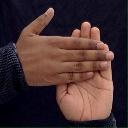hand: (14, 7, 114, 86), (56, 21, 114, 121)
